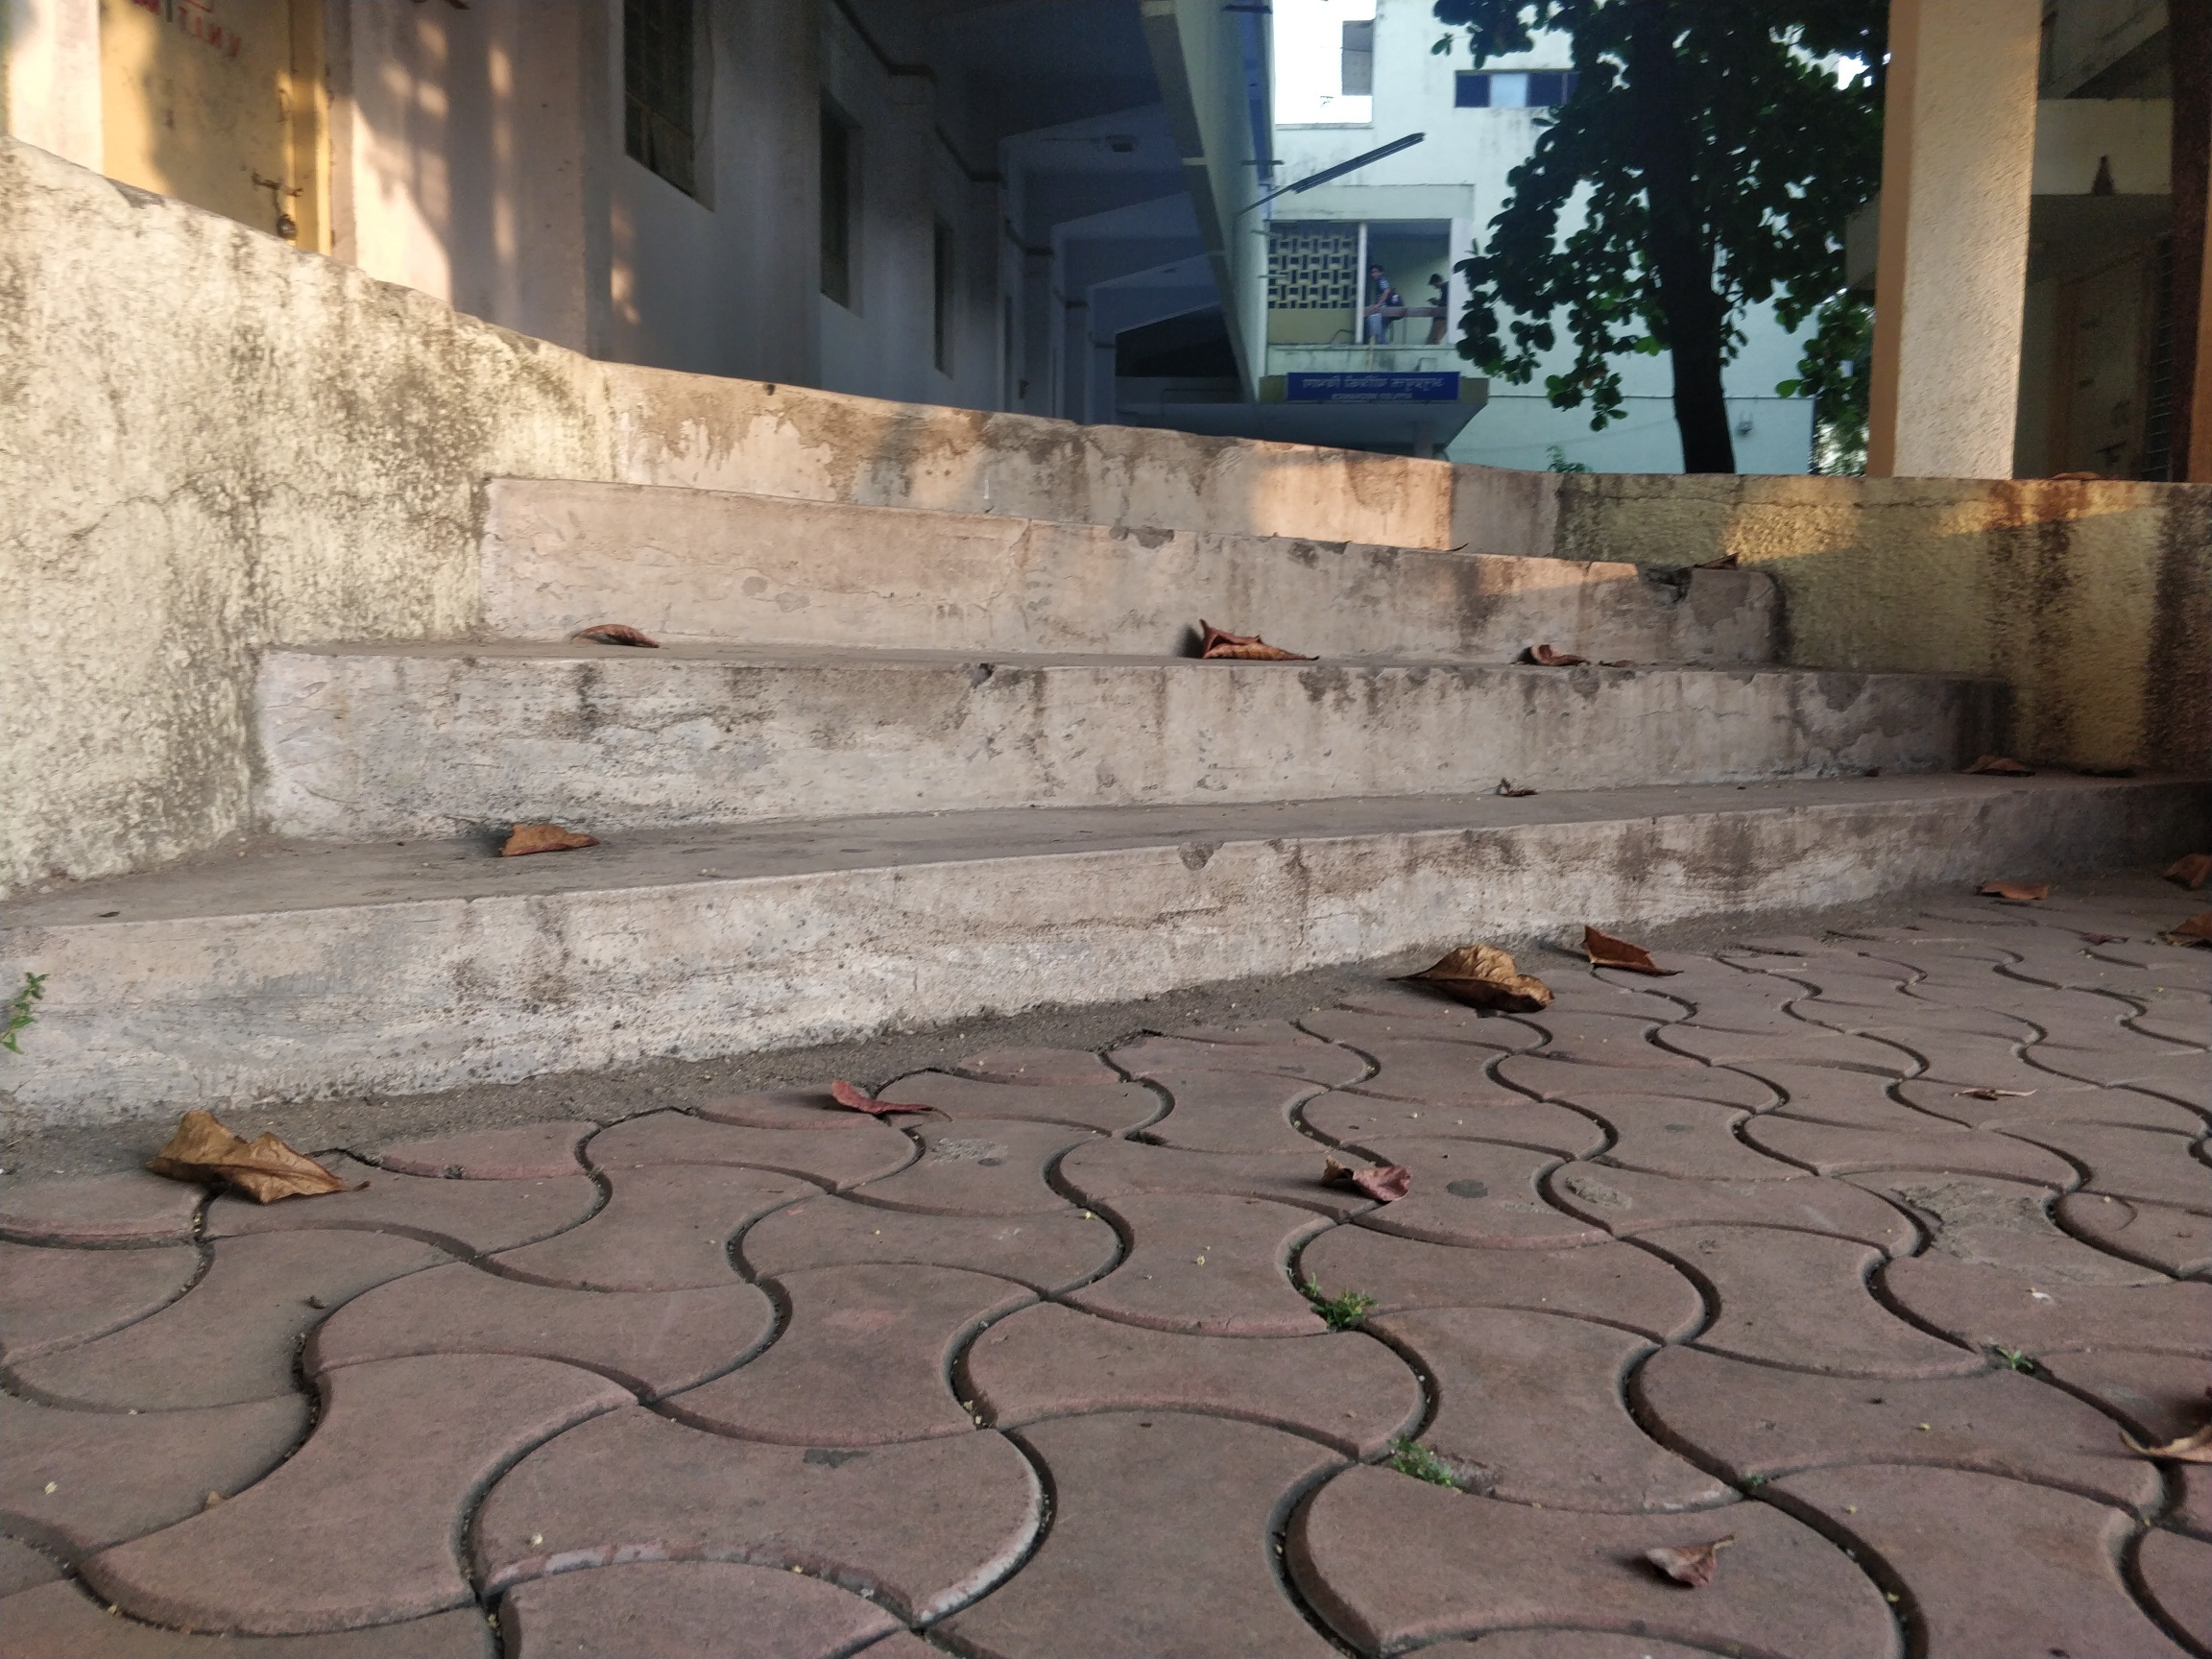stairs_up: (28, 361, 2179, 978)
